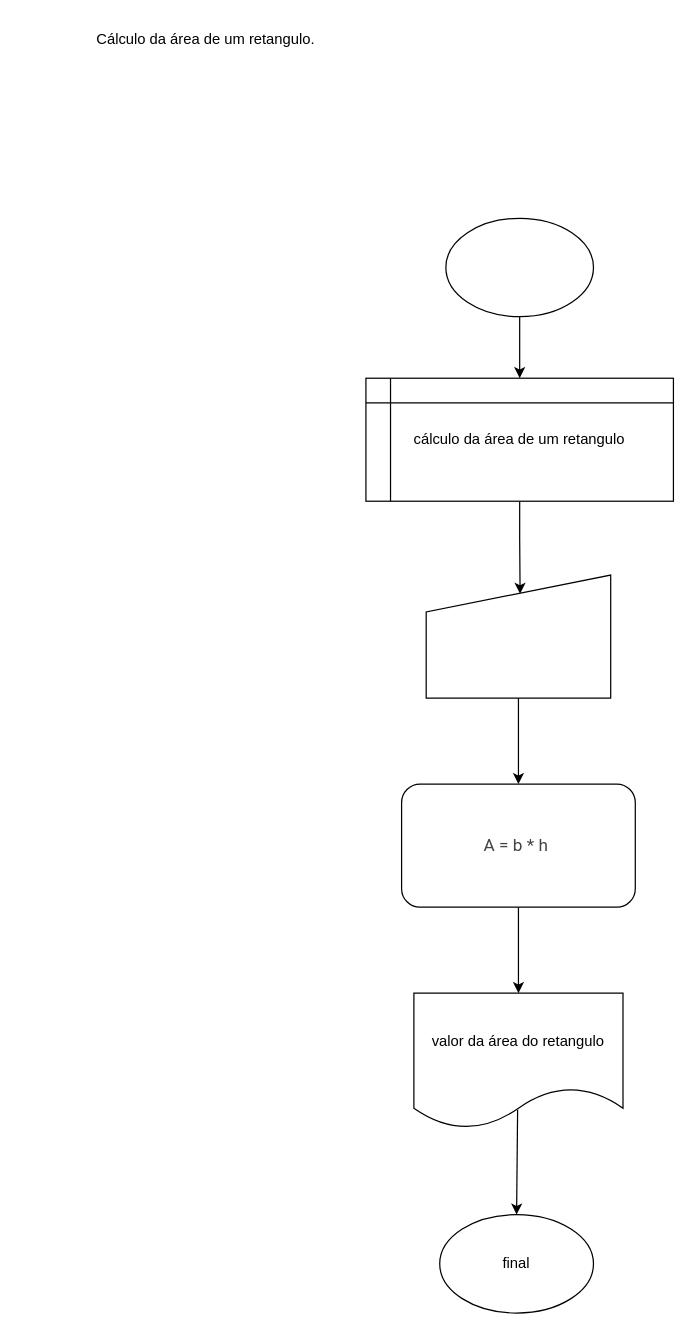
This 695x1335 diagram has some shape labels left out. The shapes that lost their labels are listed below. From the top down, each one's centre as x and y in pixels, then its label:
At (519,267): "INICIO".
At (518,636): "valor da base e altura".
